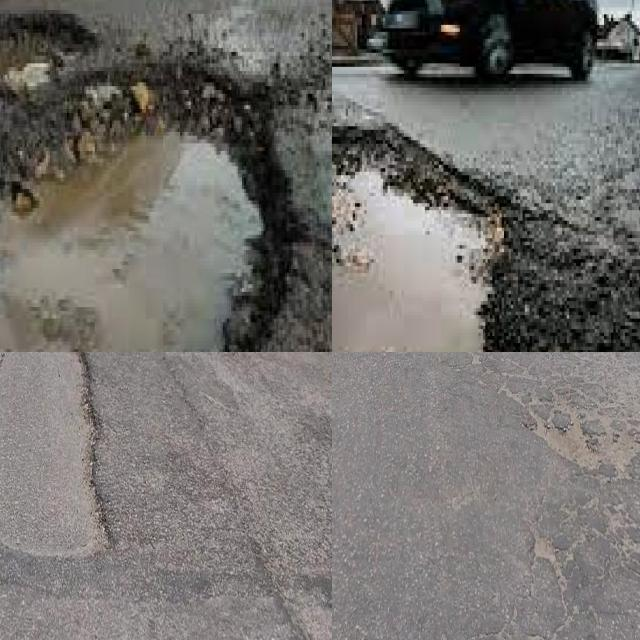Pothole: (0, 14, 297, 352), (332, 159, 491, 352), (0, 352, 115, 565), (530, 401, 640, 480), (4, 62, 50, 90)
